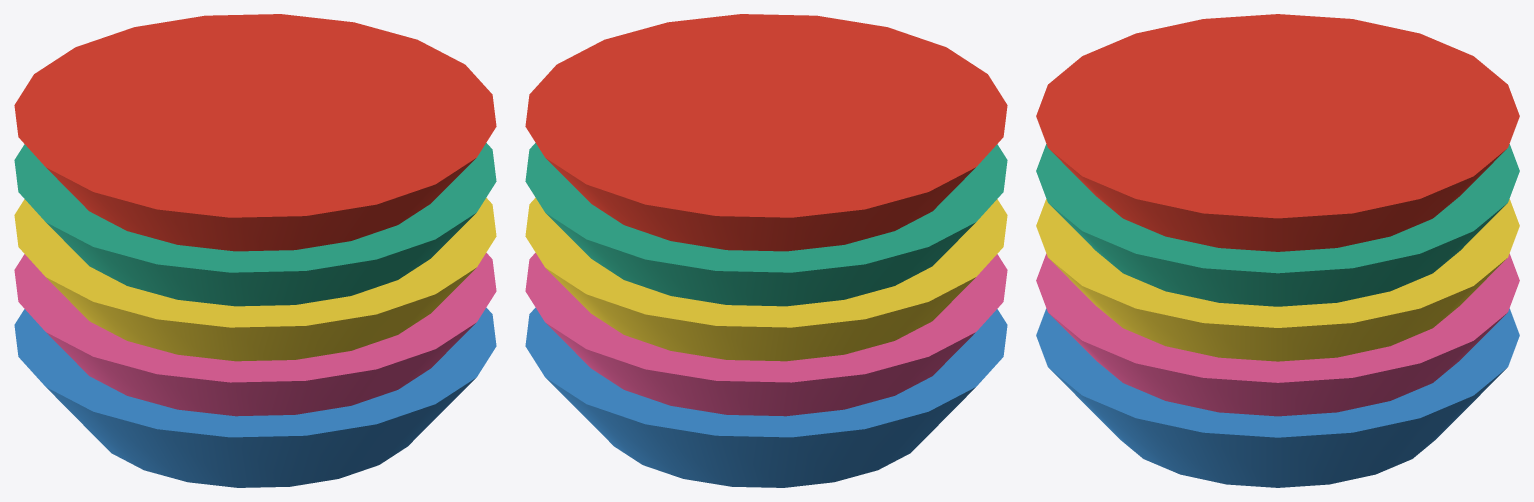
Rendered from basin_stack.glb.
The picture shows the model from 3 angles, left to right: view 1: azimuth 30°, elevation 25°; view 2: azimuth 150°, elevation 25°; view 3: azimuth 270°, elevation 25°; orthographic projection.
Visible parts, largest first — view 1: Basin4, Basin0, Basin3, Basin2, Basin1; view 2: Basin4, Basin0, Basin3, Basin2, Basin1; view 3: Basin4, Basin0, Basin3, Basin2, Basin1.
Boxes of the visible parts, bbox=[...] form: Basin4: bbox=[14, 14, 496, 251]; Basin0: bbox=[14, 307, 496, 487]; Basin3: bbox=[14, 143, 496, 306]; Basin2: bbox=[14, 198, 496, 361]; Basin1: bbox=[14, 253, 496, 416]; Basin4: bbox=[525, 14, 1007, 251]; Basin0: bbox=[525, 307, 1007, 487]; Basin3: bbox=[525, 143, 1007, 306]; Basin2: bbox=[525, 198, 1007, 361]; Basin1: bbox=[525, 253, 1007, 416]; Basin4: bbox=[1036, 14, 1519, 251]; Basin0: bbox=[1036, 308, 1519, 487]; Basin3: bbox=[1036, 144, 1519, 306]; Basin2: bbox=[1036, 199, 1519, 361]; Basin1: bbox=[1036, 253, 1519, 416].
Bounding box in the file's own units: 0.64 × 0.44 × 0.64.
